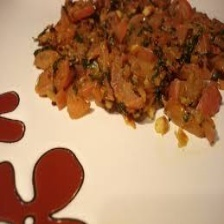sabzi: (32, 0, 224, 139)
